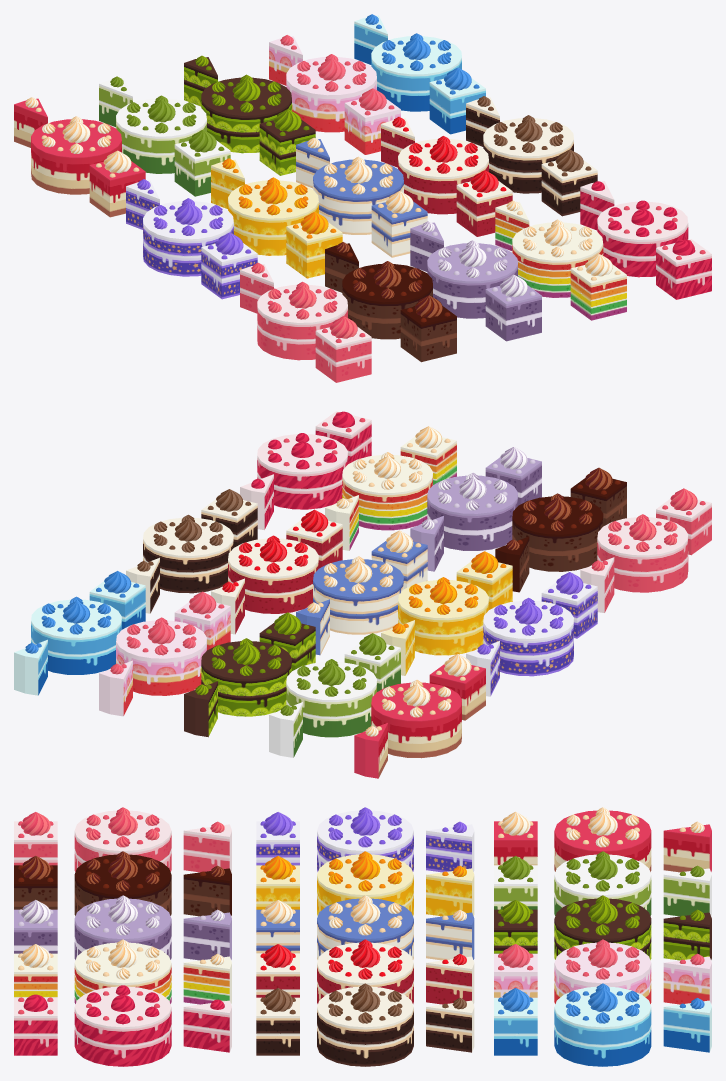
3 renders of one model, top to bottom at view 1: azimuth 30°, elevation 25°; view 2: azimuth 150°, elevation 25°; view 3: azimuth 270°, elevation 25°, orthographic. The views are drawn at different scales.
Visible parts, largest first — view 1: Whole (×15), Cube (×15), Slice (×15); view 2: Whole (×15), Cube (×15), Slice (×15); view 3: Whole (×15), Slice (×15), Cube (×15).
Boxes of the visible parts, x1,y1,x2,y2 form: Whole (×15): [31, 33, 688, 360]; Cube (×15): [89, 67, 711, 382]; Slice (×15): [14, 14, 614, 313]; Whole (×15): [31, 433, 688, 758]; Cube (×15): [89, 411, 711, 720]; Slice (×15): [14, 474, 614, 778]; Whole (×15): [74, 807, 651, 1066]; Slice (×15): [183, 821, 711, 1052]; Cube (×15): [14, 811, 537, 1055].
Size of the model in its own units: 2.12 by 0.2662 by 2.88.
Materials: 16 (16 with a texture image).
